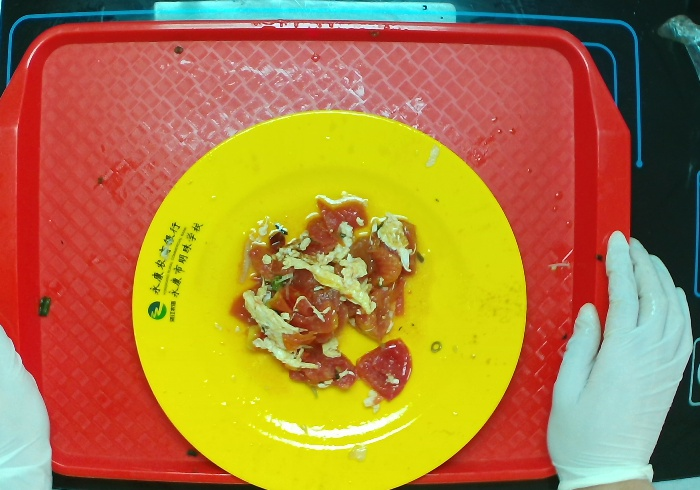YKMZ-Huang_Se_Mian_Pan: (127, 108, 527, 490)
